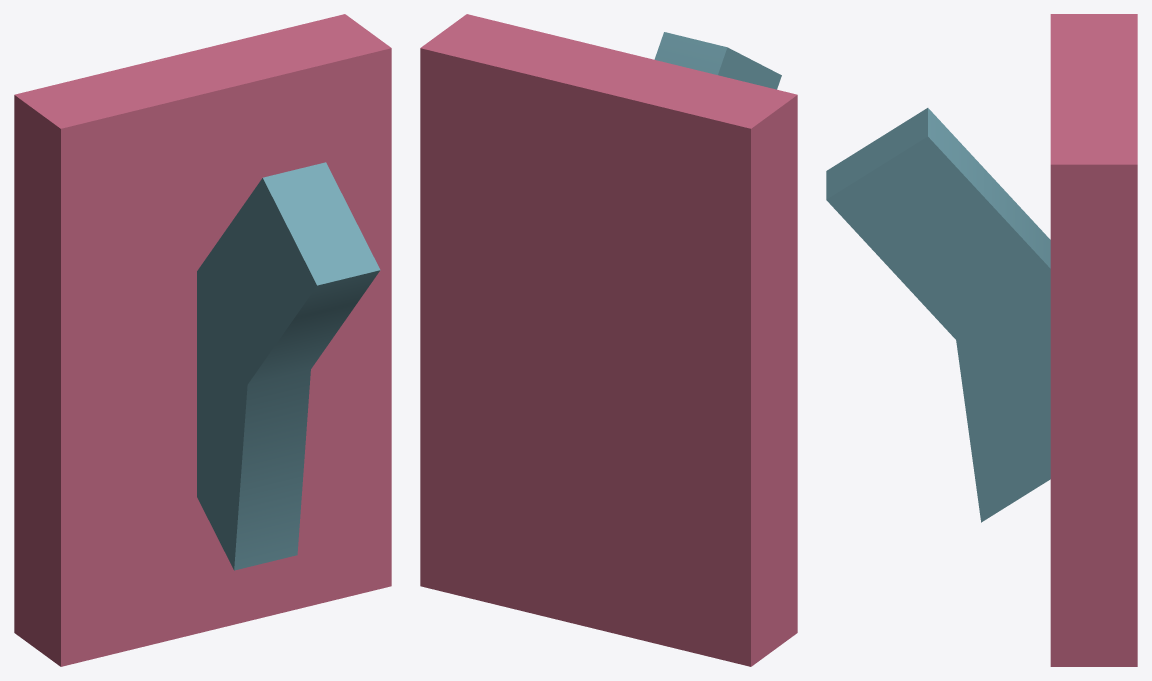
Rendered from switch.fbx.
The picture shows the model from 3 angles, left to right: view 1: azimuth 30°, elevation 25°; view 2: azimuth 150°, elevation 25°; view 3: azimuth 270°, elevation 25°; orthographic projection. The views are drawn at different scales.
Parts seen in each view (by area): view 1: pCube25, pCube26; view 2: pCube25, pCube26; view 3: pCube25, pCube26.
Part boxes in pixels (x1,y1,x2,y2): pCube25: [14, 14, 391, 666]; pCube26: [197, 162, 380, 570]; pCube25: [420, 14, 797, 666]; pCube26: [654, 32, 781, 89]; pCube25: [1050, 14, 1137, 666]; pCube26: [826, 108, 1050, 522].
Size of the model in its own units: 0.3609 by 0.5607 by 0.3153.
